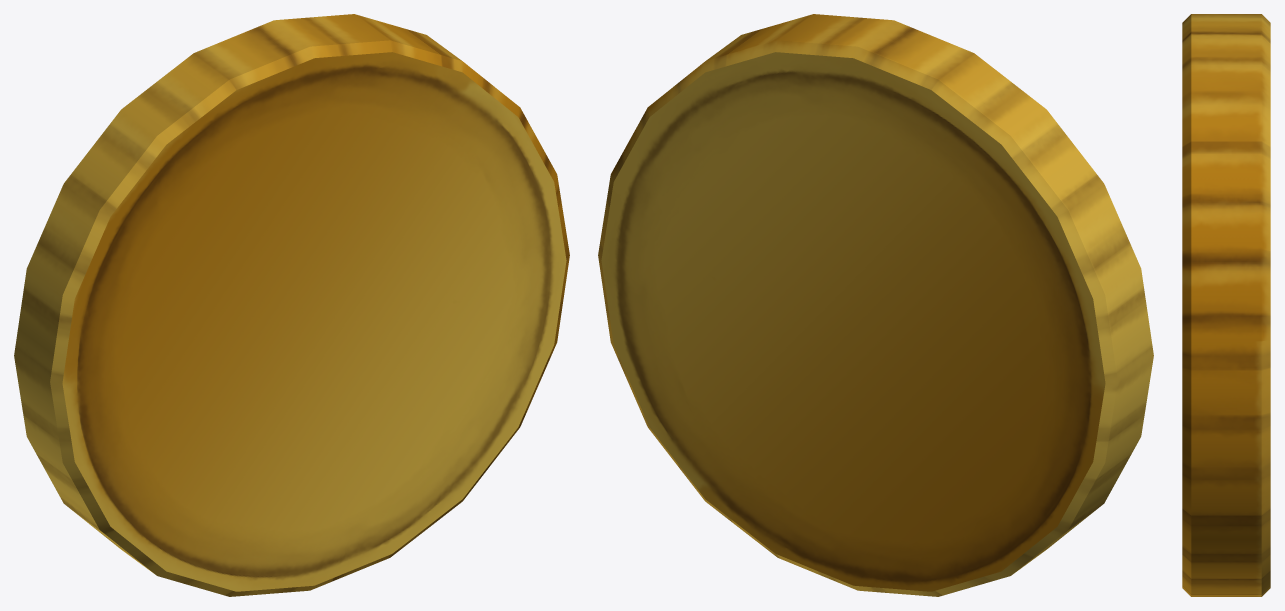
Rendered from coin.fbx.
3 views of the same model, side by side, from view 1: azimuth 30°, elevation 25°; view 2: azimuth 150°, elevation 25°; view 3: azimuth 270°, elevation 25° (orthographic). The views are drawn at different scales.
Visible parts, largest first — view 1: pCylinder1; view 2: pCylinder1; view 3: pCylinder1.
Part boxes in pixels (x1,y1,x2,y2): pCylinder1: (14,14,569,596); pCylinder1: (598,14,1153,596); pCylinder1: (1182,14,1270,596).
Size of the model in its own units: 10 by 10 by 1.5.
Materials: 1 (1 with a texture image).
